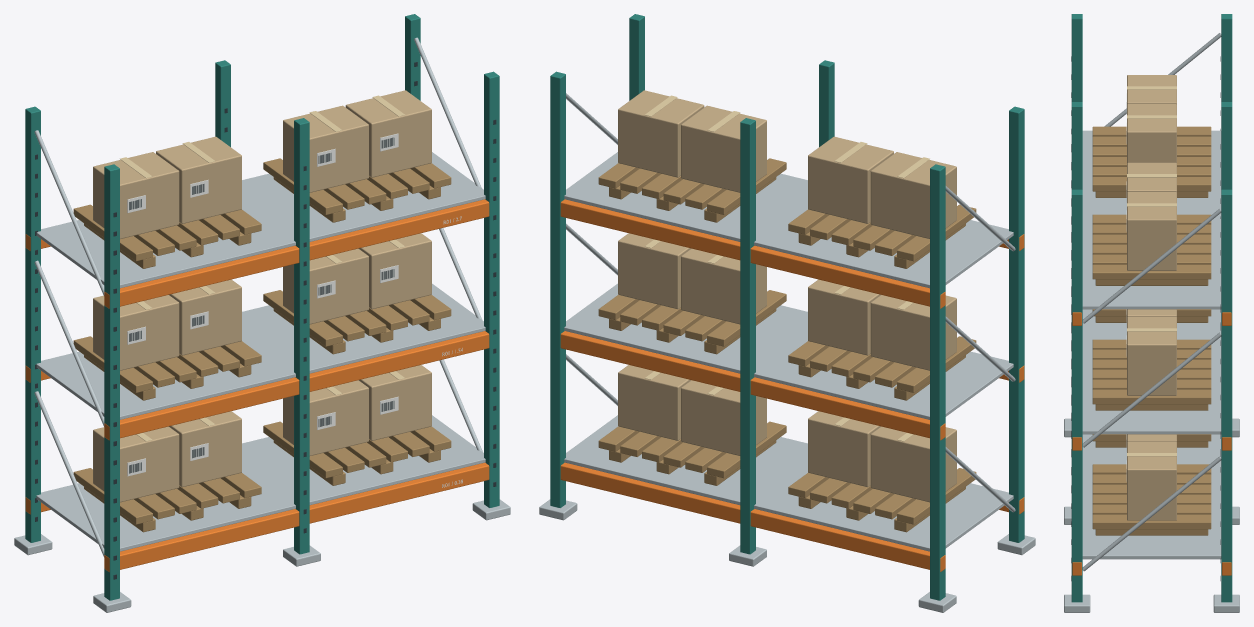
The model's file is warehouse.glb.
The picture shows the model from 3 angles, left to right: view 1: azimuth 30°, elevation 25°; view 2: azimuth 150°, elevation 25°; view 3: azimuth 270°, elevation 25°; orthographic projection. The views are drawn at different scales.
Visible parts, largest first — view 1: Deck sheet.001, Deck sheet.002, Deck sheet, Rack load beam, Rack load beam.002, Rack load beam.004, Rack channel.004, Rack channel.002, Rack channel, Rack channel.001, Shipping carton.010, Shipping carton.012 (+28 smaller); view 2: Deck sheet.001, Deck sheet, Deck sheet.002, Rack load beam.001, Rack load beam.003, Rack load beam.005, Rack channel.001, Rack channel.005, Rack channel.003, Rack channel, Shipping carton.012, Shipping carton.010 (+24 smaller); view 3: Deck sheet.002, Deck sheet, Deck sheet.001, Pallet deck slat.002, Pallet deck slat.006, Pallet deck slat.004, Rack channel.004, Rack channel.005, Pallet deck slat.005, Shipping carton.009, Shipping carton.013, Shipping carton.005 (+23 smaller).
Part boxes in pixels (box(x1,y1,x2,y2)): Deck sheet.001: box(36, 283, 485, 419); Deck sheet.002: box(36, 152, 485, 288); Deck sheet: box(36, 415, 485, 551); Rack load beam: box(104, 462, 489, 571); Rack load beam.002: box(104, 331, 489, 440); Rack load beam.004: box(104, 199, 489, 308); Rack channel.004: box(484, 71, 499, 507); Rack channel.002: box(294, 118, 309, 554); Rack channel: box(104, 164, 119, 600); Rack channel.001: box(25, 106, 40, 542); Shipping carton.010: box(93, 152, 179, 238); Shipping carton.012: box(283, 105, 368, 192); Deck sheet.001: box(564, 283, 1013, 419); Deck sheet: box(564, 415, 1013, 551); Deck sheet.002: box(564, 152, 1013, 288); Rack load beam.001: box(560, 462, 945, 571); Rack load beam.003: box(560, 331, 945, 440); Rack load beam.005: box(560, 199, 945, 308); Rack channel.001: box(930, 164, 945, 600); Rack channel.005: box(550, 71, 565, 507); Rack channel.003: box(740, 118, 755, 554); Rack channel: box(1009, 106, 1024, 542); Shipping carton.012: box(681, 105, 766, 192); Shipping carton.010: box(870, 152, 956, 238); Deck sheet.002: box(1082, 130, 1221, 309); Deck sheet: box(1082, 434, 1221, 559); Deck sheet.001: box(1082, 309, 1221, 434); Pallet deck slat.002: box(1092, 464, 1211, 529); Pallet deck slat.006: box(1092, 214, 1211, 279); Pallet deck slat.004: box(1092, 339, 1211, 404); Rack channel.004: box(1071, 189, 1082, 602); Rack channel.005: box(1221, 189, 1232, 602); Pallet deck slat.005: box(1092, 126, 1211, 191); Shipping carton.009: box(1127, 316, 1176, 395); Shipping carton.013: box(1127, 192, 1176, 270); Shipping carton.005: box(1127, 441, 1176, 520).
Bounding box in the file's own units: 3.73 × 3.86 × 1.48.
